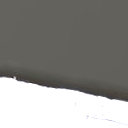crackTip: (82, 110, 128, 127)
